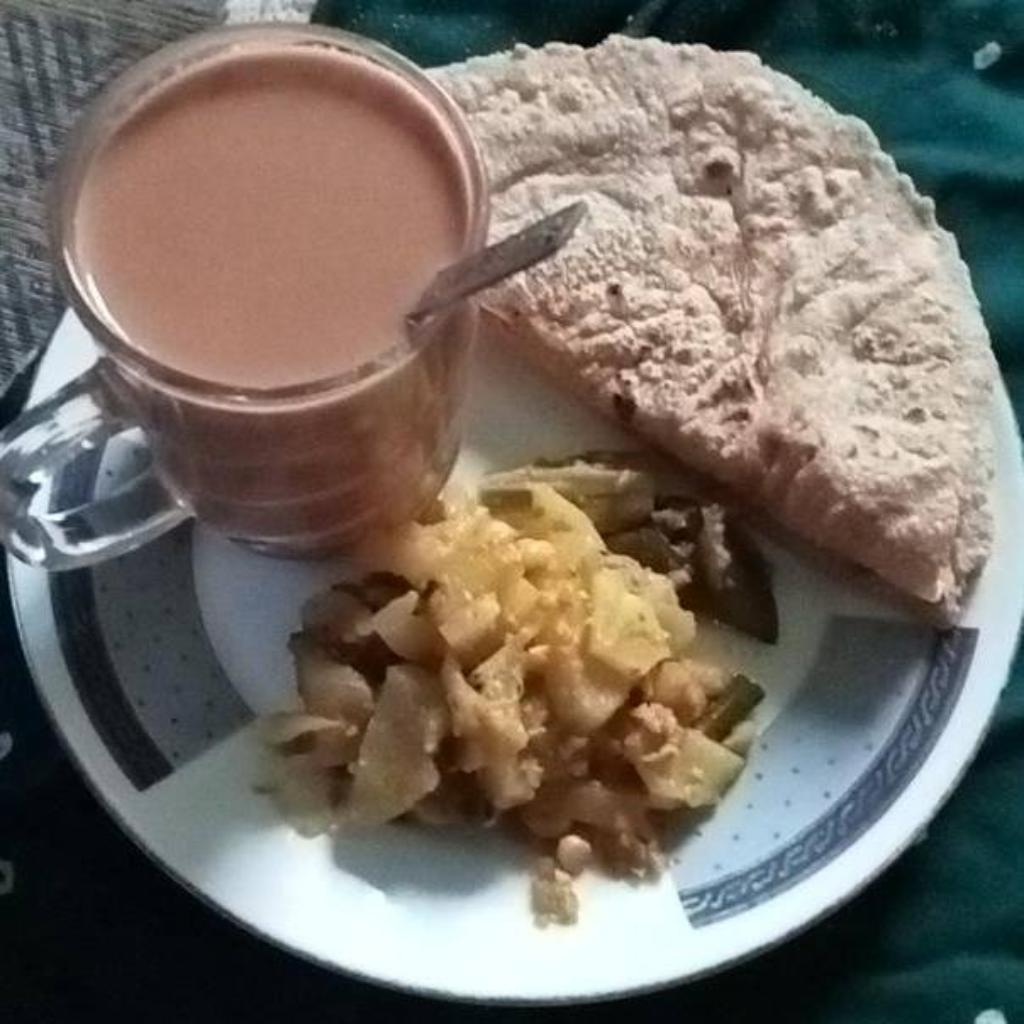ruti: (429, 42, 984, 609)
vegetable: (262, 468, 776, 883)
vorta: (78, 56, 447, 385)
